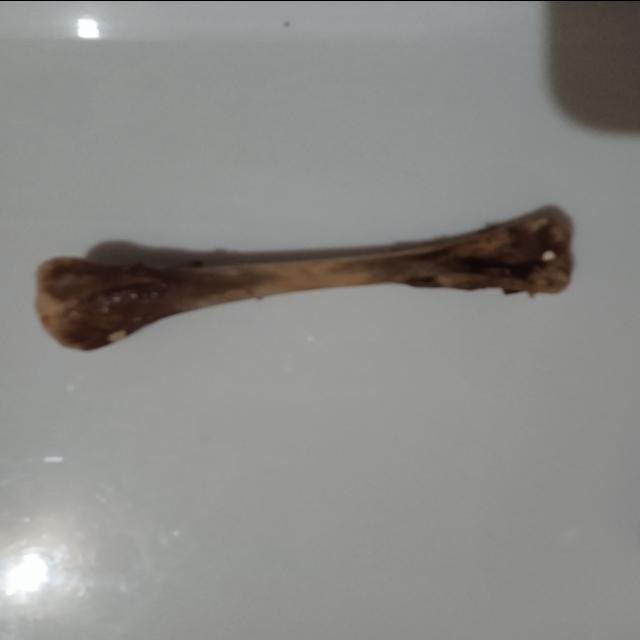bone: (26, 204, 574, 352)
